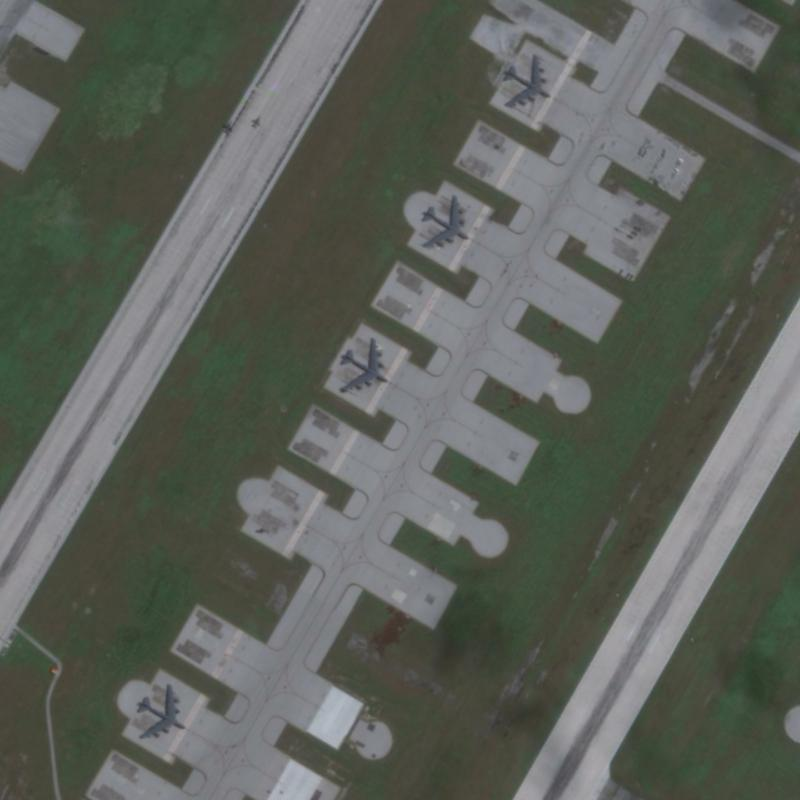A8: (132, 682, 189, 741), (416, 191, 472, 251), (495, 50, 553, 107), (336, 336, 391, 394)
